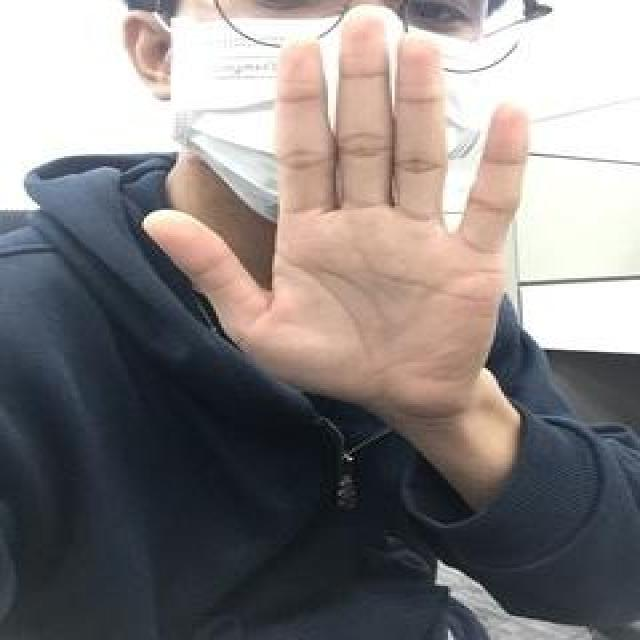no-gloves: (140, 12, 535, 402)
